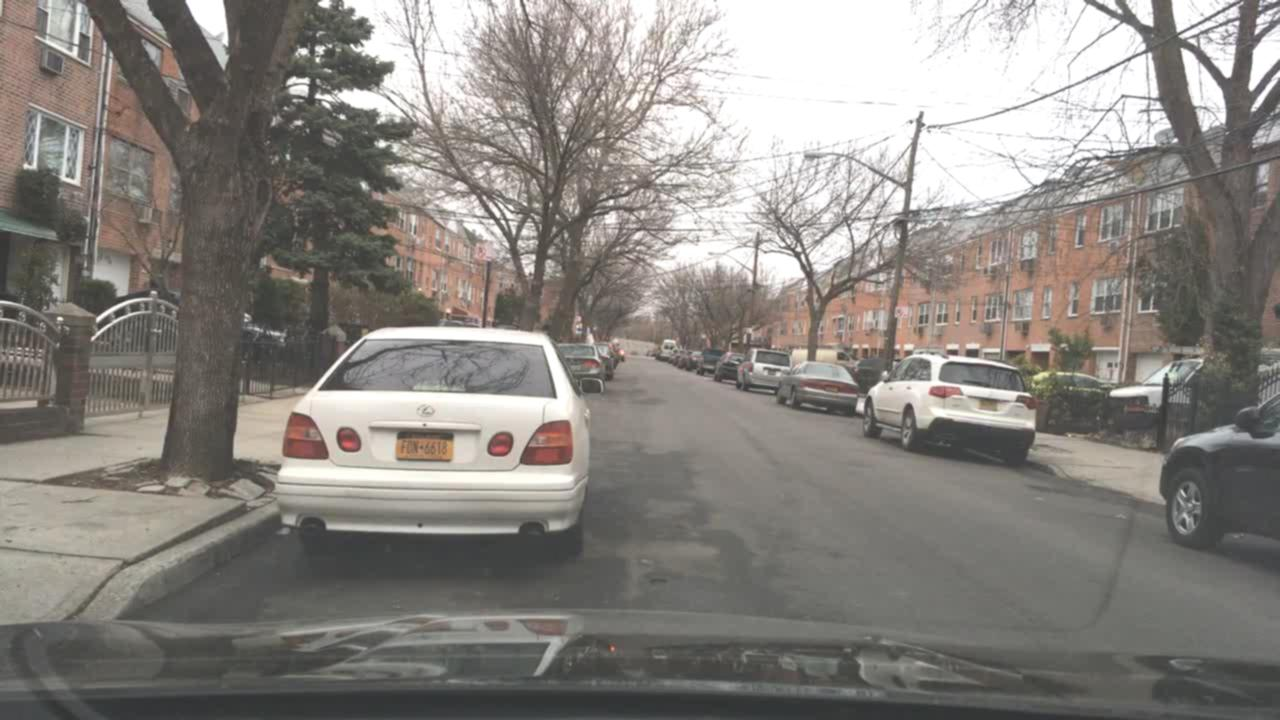lexus: (414, 401, 439, 420)
